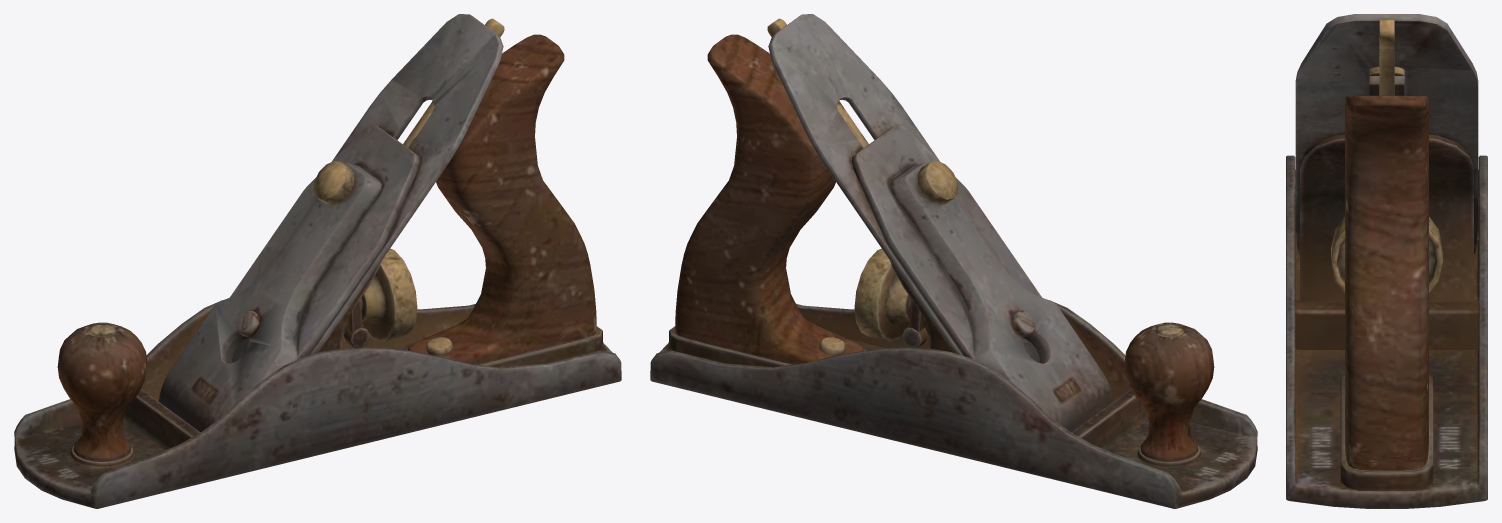
File: design-hand-plane-no4.glb
3 renders of one model, left to right at view 1: azimuth 30°, elevation 25°; view 2: azimuth 150°, elevation 25°; view 3: azimuth 270°, elevation 25°, orthographic. The views are drawn at different scales.
Parts seen in each view (by area): view 1: hand_plane_no4; view 2: hand_plane_no4; view 3: hand_plane_no4.
Boxes of the visible parts, x1,y1,x2,y2 form: hand_plane_no4: [14, 14, 621, 508]; hand_plane_no4: [650, 14, 1257, 508]; hand_plane_no4: [1286, 14, 1487, 508].
Size of the model in its own units: 0.3308 by 0.1978 by 0.0843.
1 material, 1 textured.
